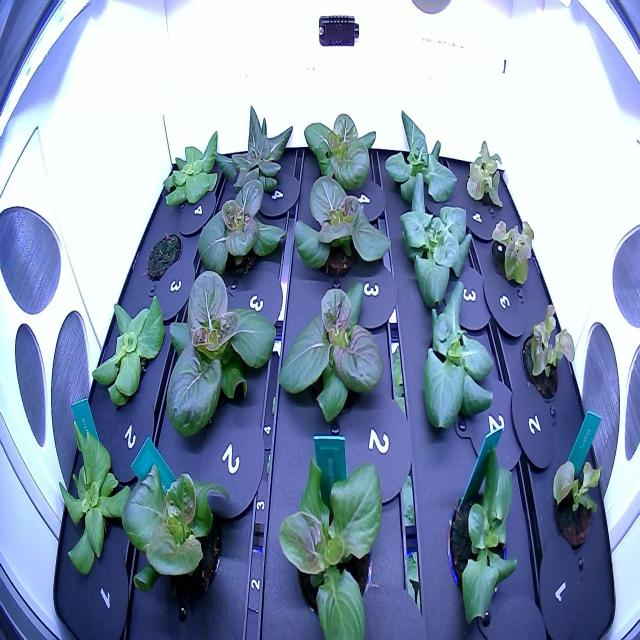pod: (143, 225, 184, 289)
young: (273, 441, 387, 640), (163, 258, 280, 447), (117, 429, 235, 614), (270, 266, 388, 426), (444, 430, 525, 632), (420, 269, 504, 447), (52, 412, 134, 592), (280, 161, 395, 281), (391, 162, 475, 312), (192, 167, 293, 289), (88, 285, 169, 423), (211, 92, 300, 208), (382, 101, 459, 224), (293, 99, 380, 204), (160, 120, 222, 217)
